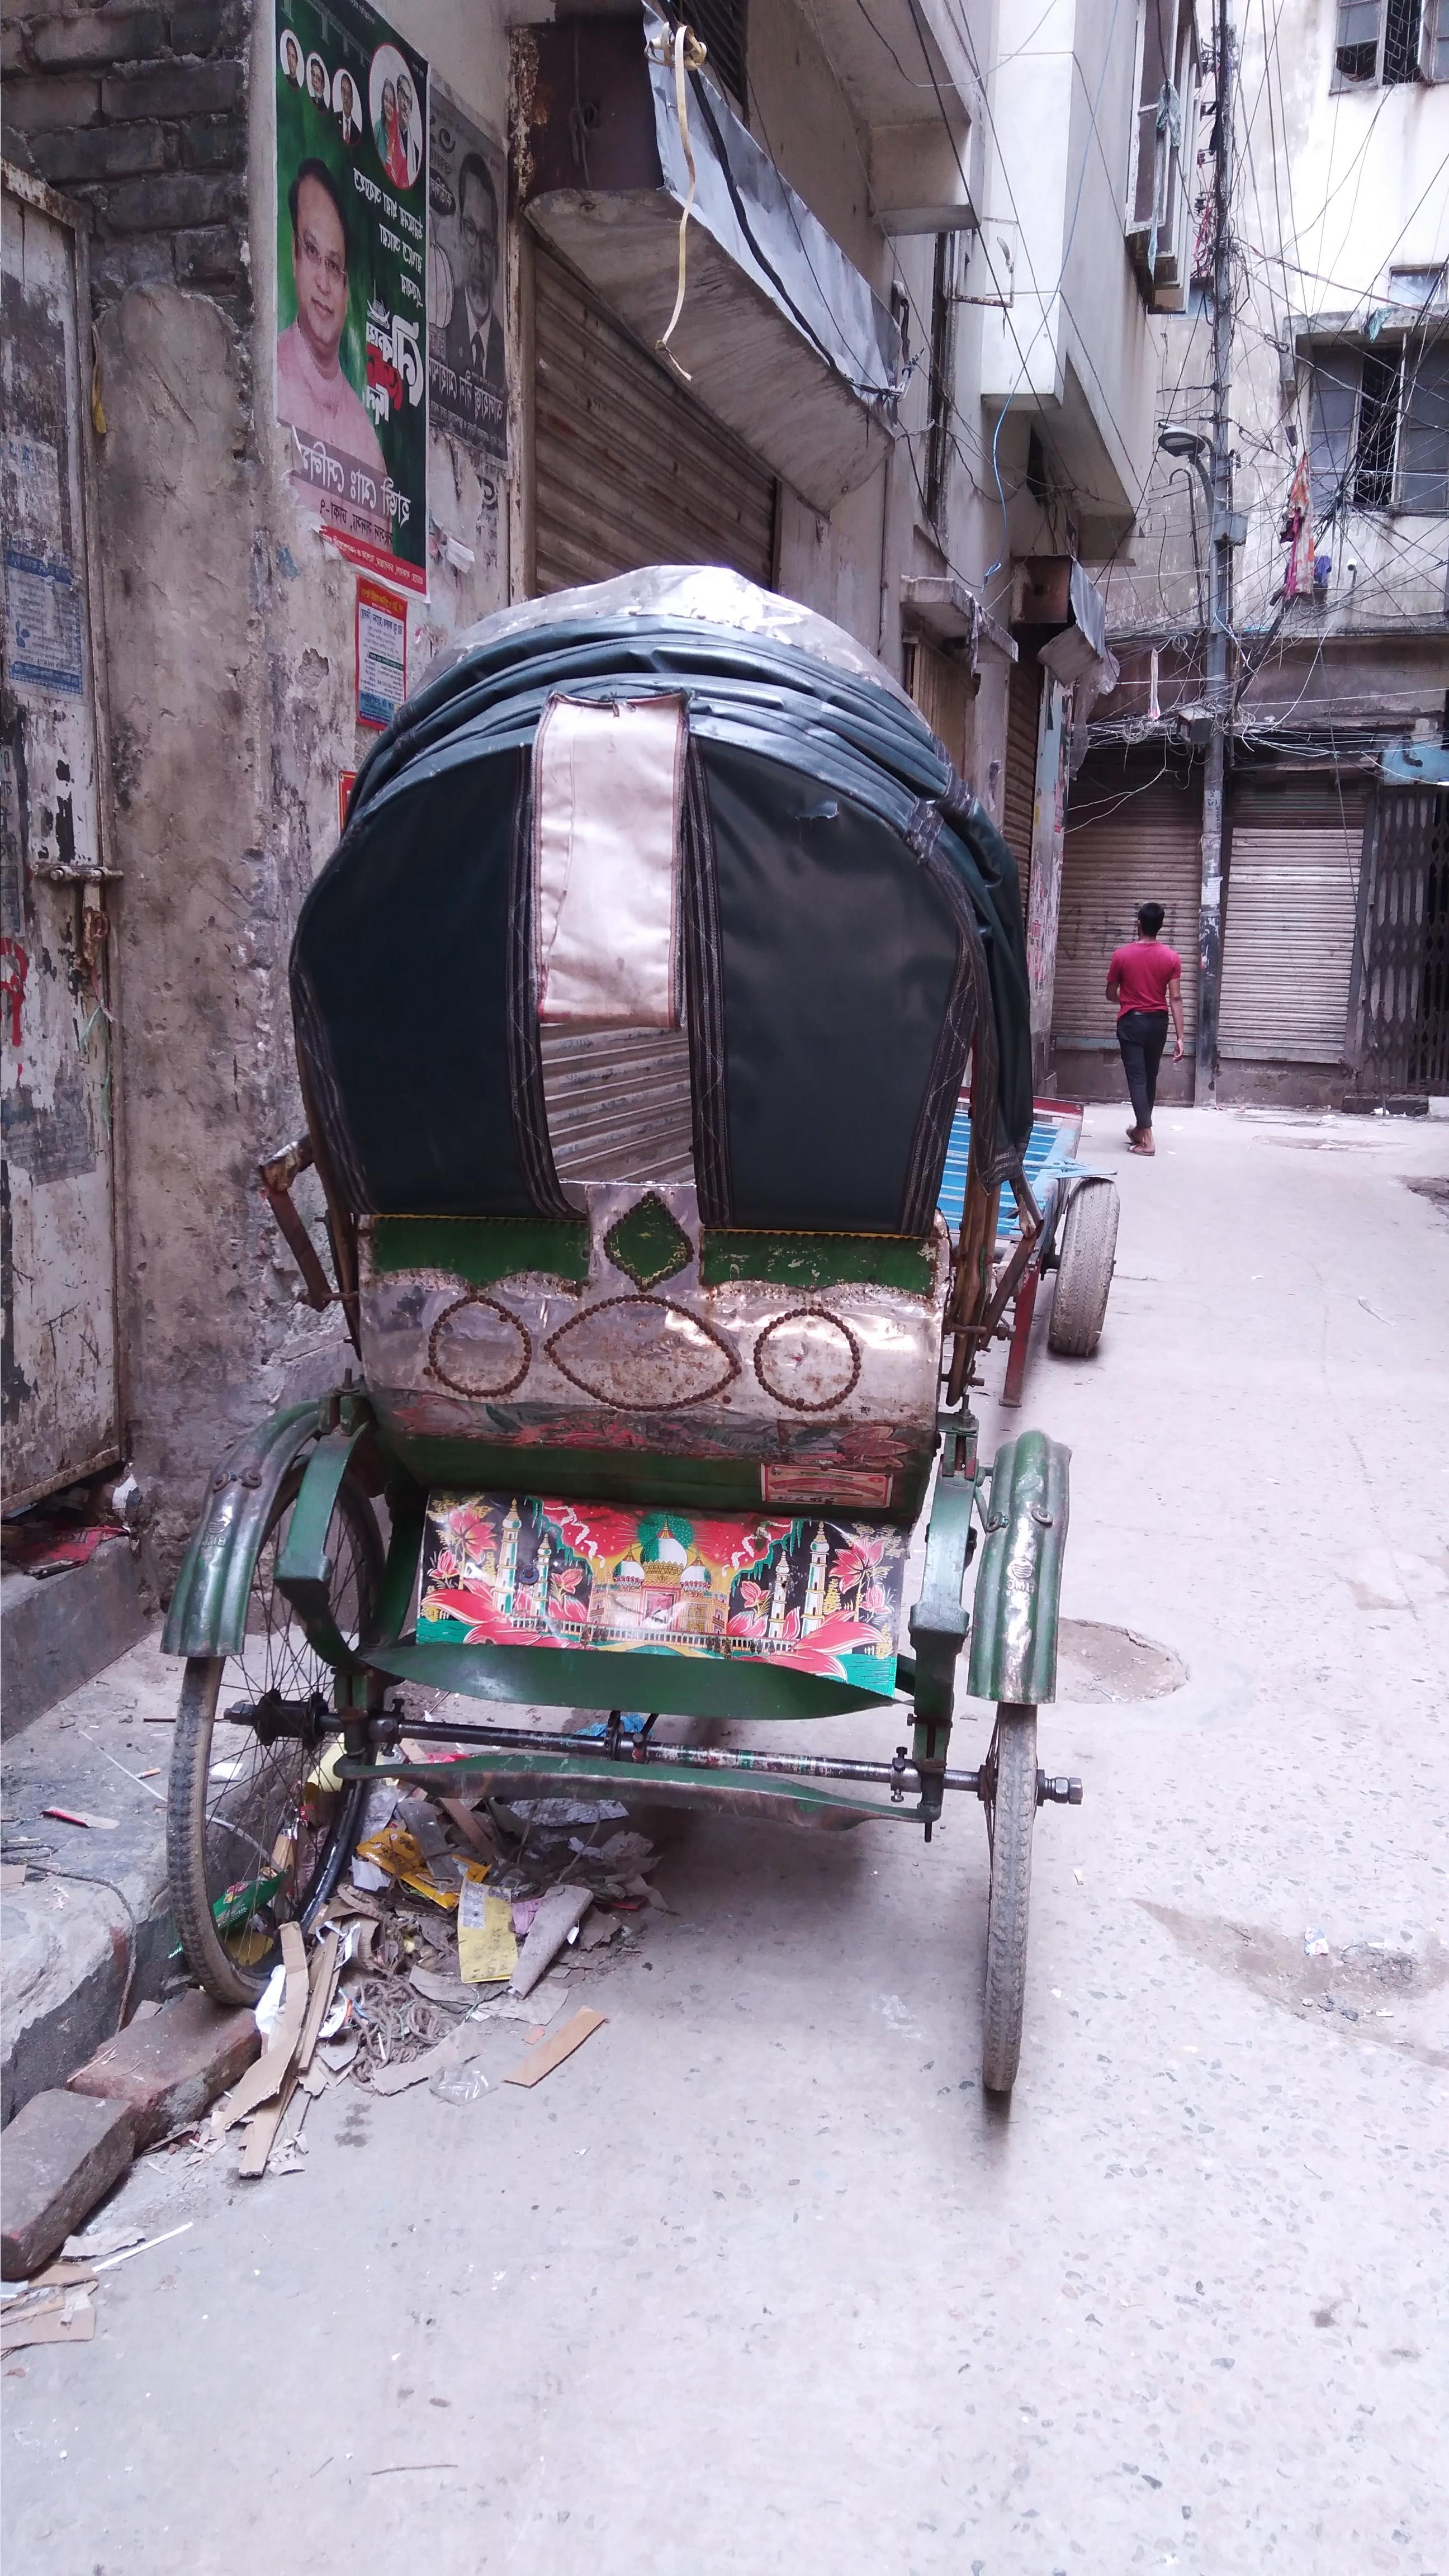Rickshaw: (237, 550, 1090, 2111)
